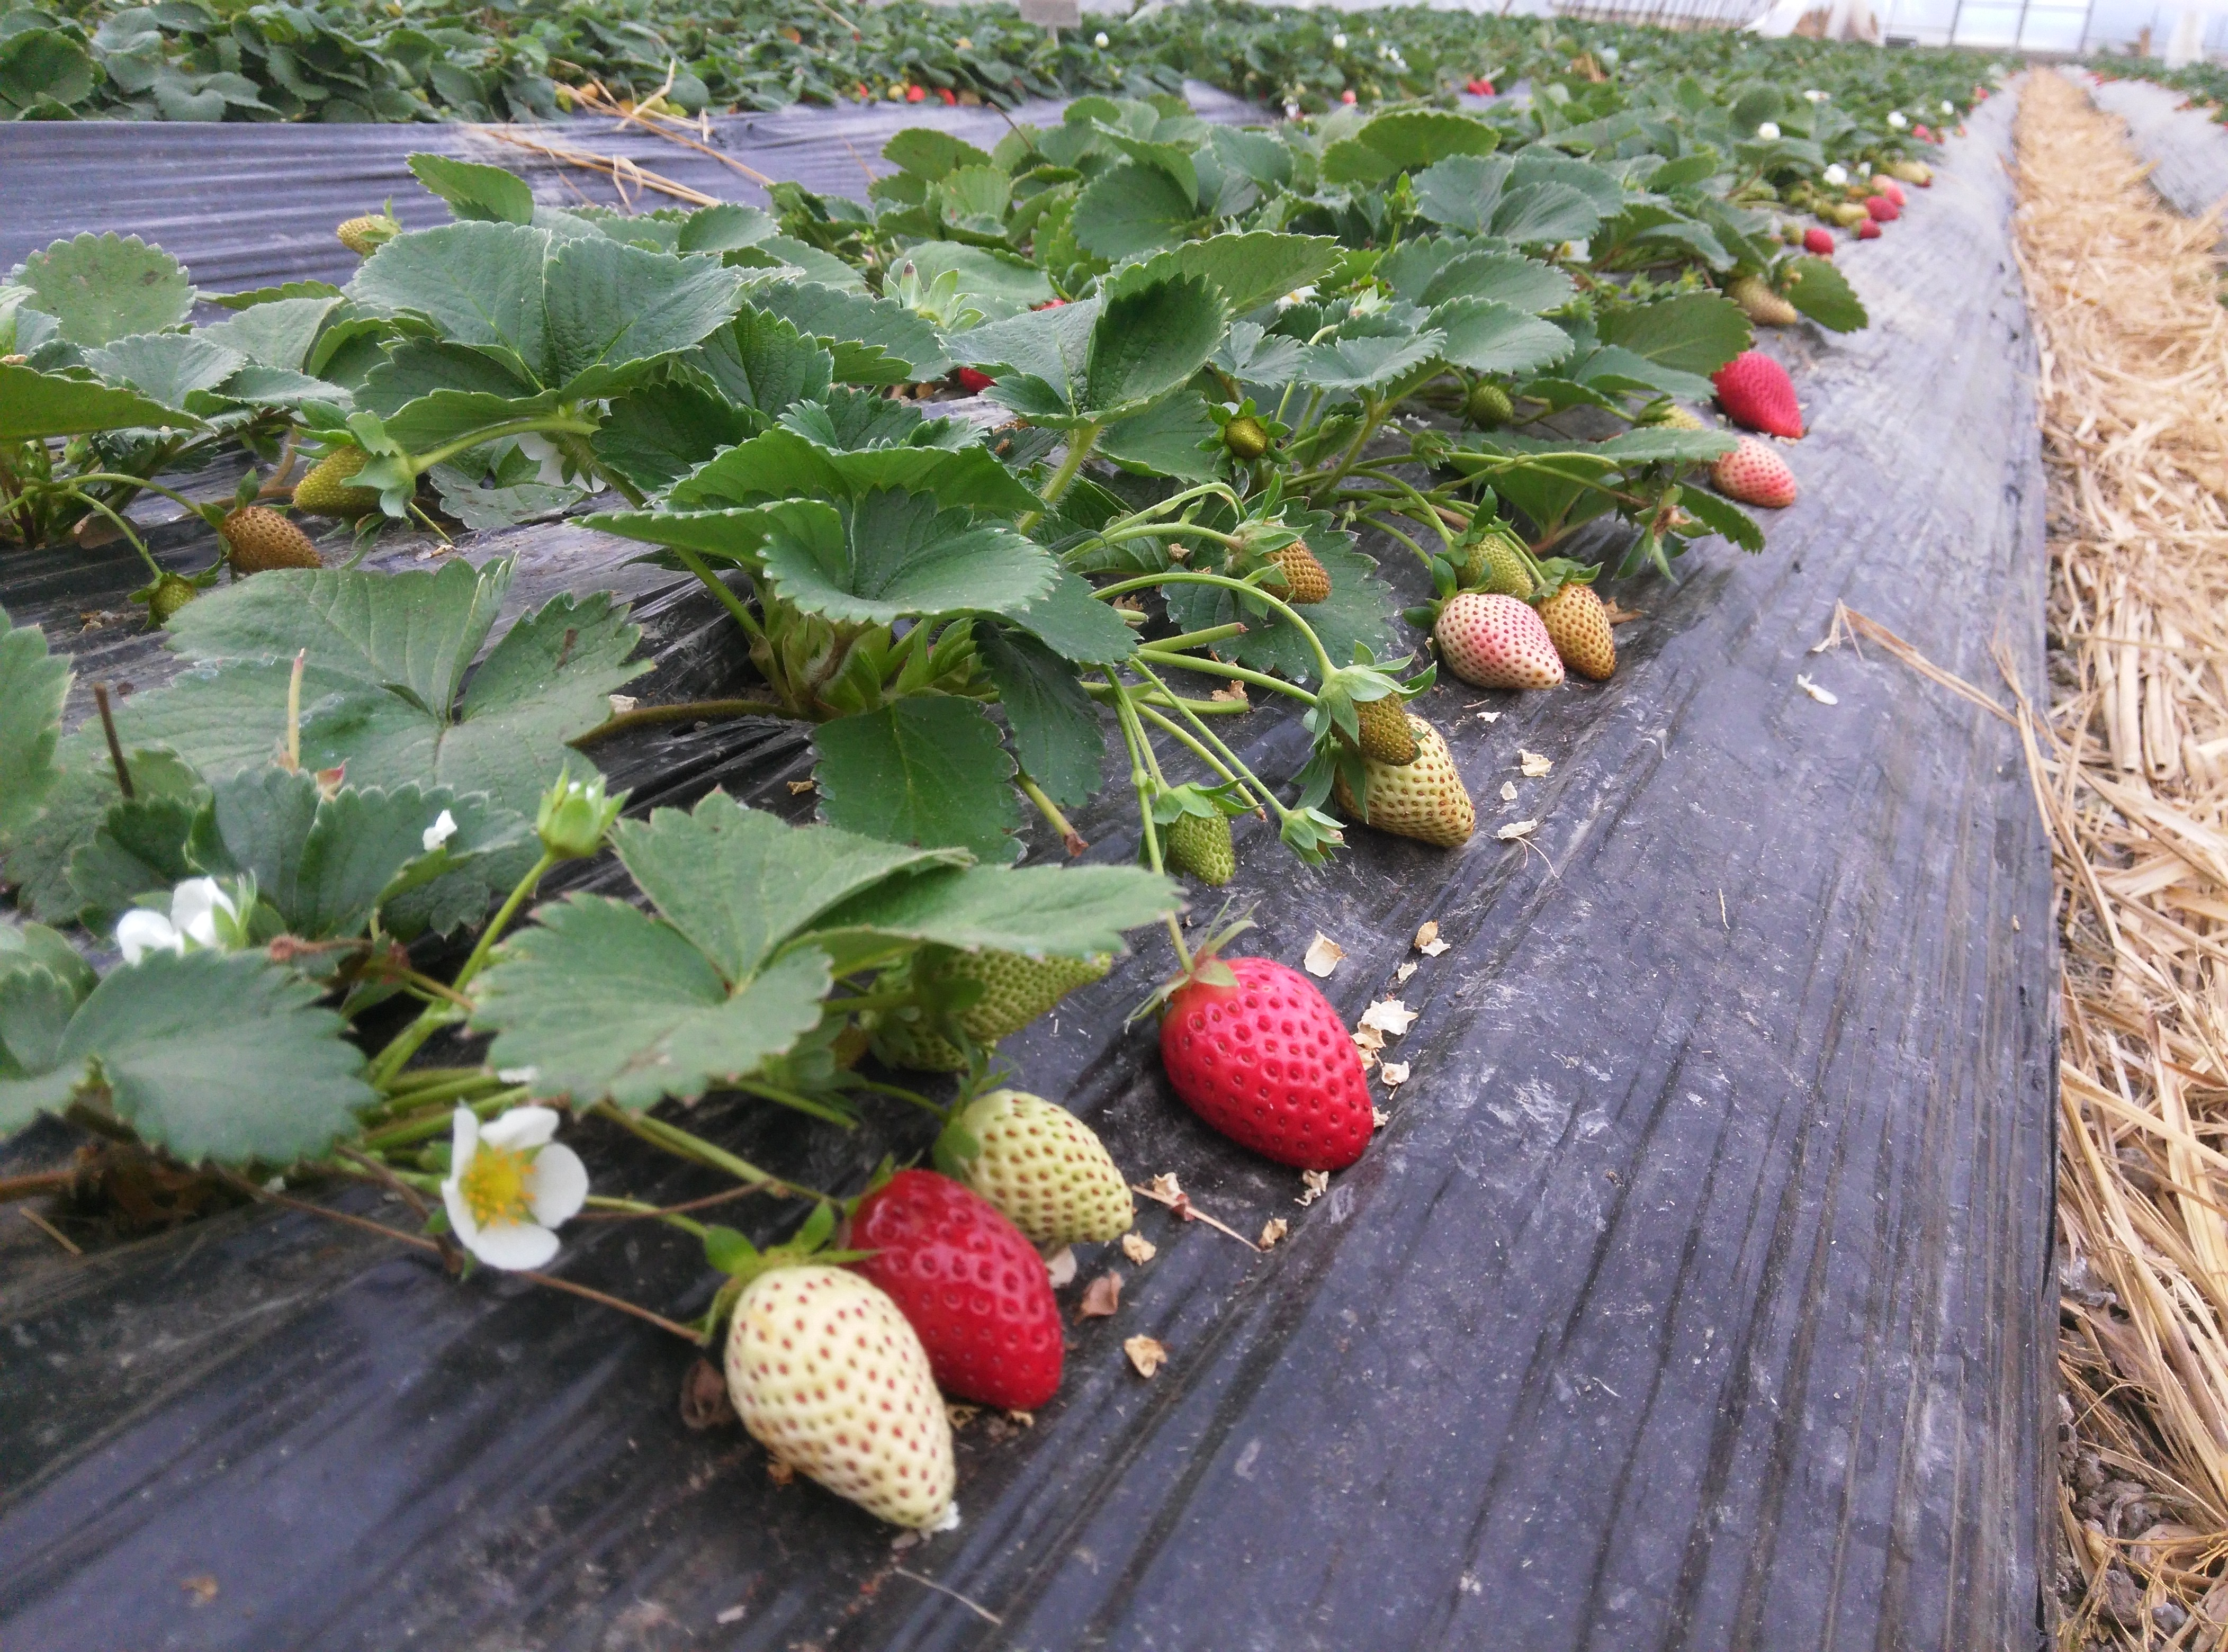StrawberryFusiform: (843, 1154, 1067, 1418), (1156, 947, 1383, 1185), (1716, 347, 1817, 439)
StrawberryIrremovable: (706, 1253, 956, 1555), (930, 1083, 1138, 1234), (890, 916, 1114, 1036), (1333, 710, 1480, 847), (1416, 590, 1551, 694), (1215, 493, 1343, 600), (1300, 666, 1416, 760), (1534, 574, 1624, 684), (1142, 784, 1242, 882), (1711, 437, 1806, 534), (213, 501, 330, 580), (1445, 505, 1546, 593), (286, 434, 382, 517), (1706, 272, 1824, 331), (1208, 387, 1275, 472), (1456, 357, 1522, 437), (134, 566, 213, 632), (326, 203, 410, 259)
StrawberryOther: (1798, 172, 1935, 265)
StrawberryRemovable: (850, 1157, 1064, 1416), (1161, 949, 1378, 1178), (1706, 344, 1825, 444), (1806, 180, 1928, 262)
